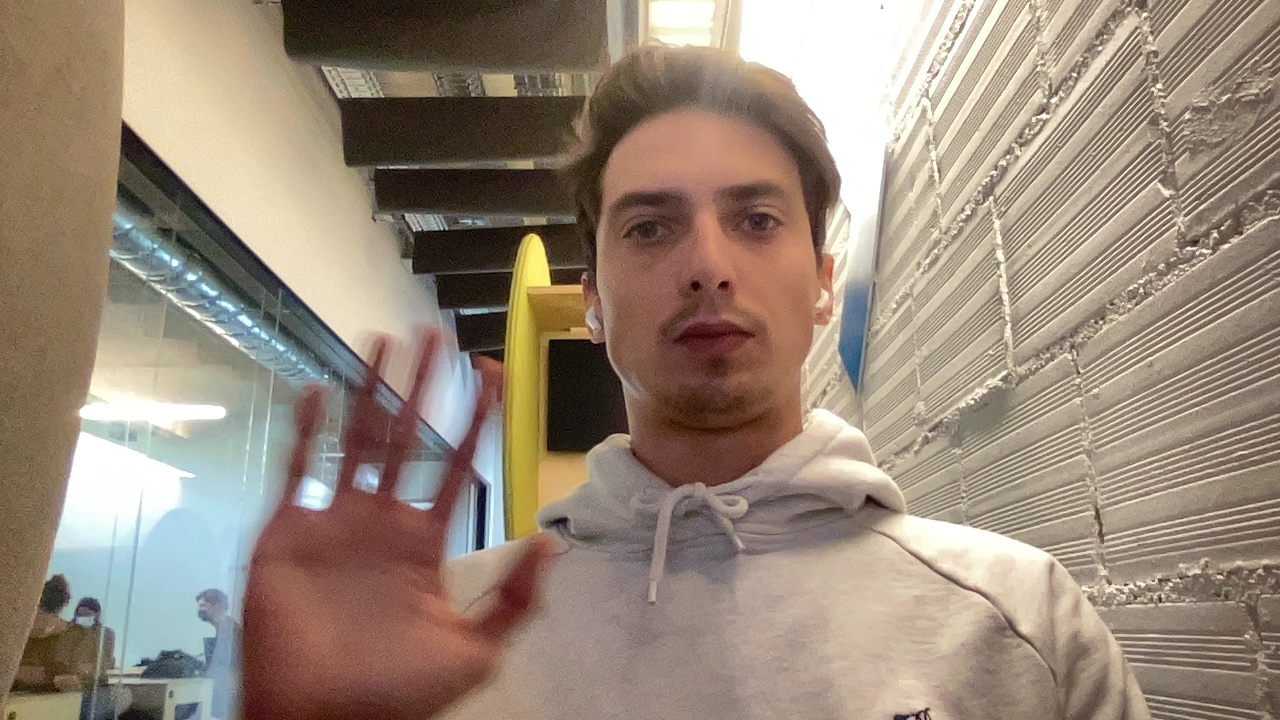Hello: (247, 325, 563, 709)
